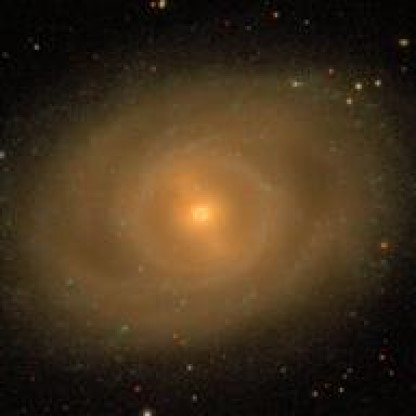Messier 95: (24, 66, 400, 370)
